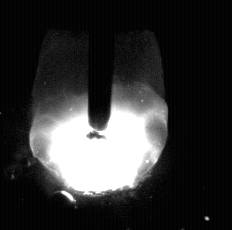arame: (89, 0, 113, 130)
poca: (29, 0, 168, 230)
